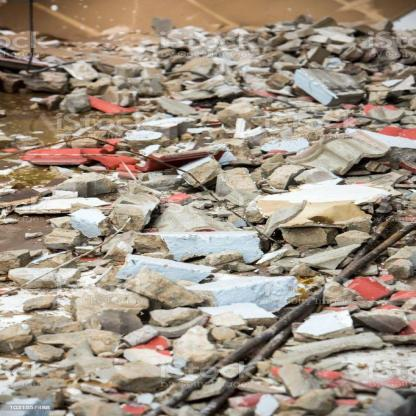brick: (0, 29, 415, 280), (3, 139, 323, 416), (32, 12, 415, 128), (211, 228, 415, 415), (169, 337, 270, 416), (2, 218, 23, 227)
